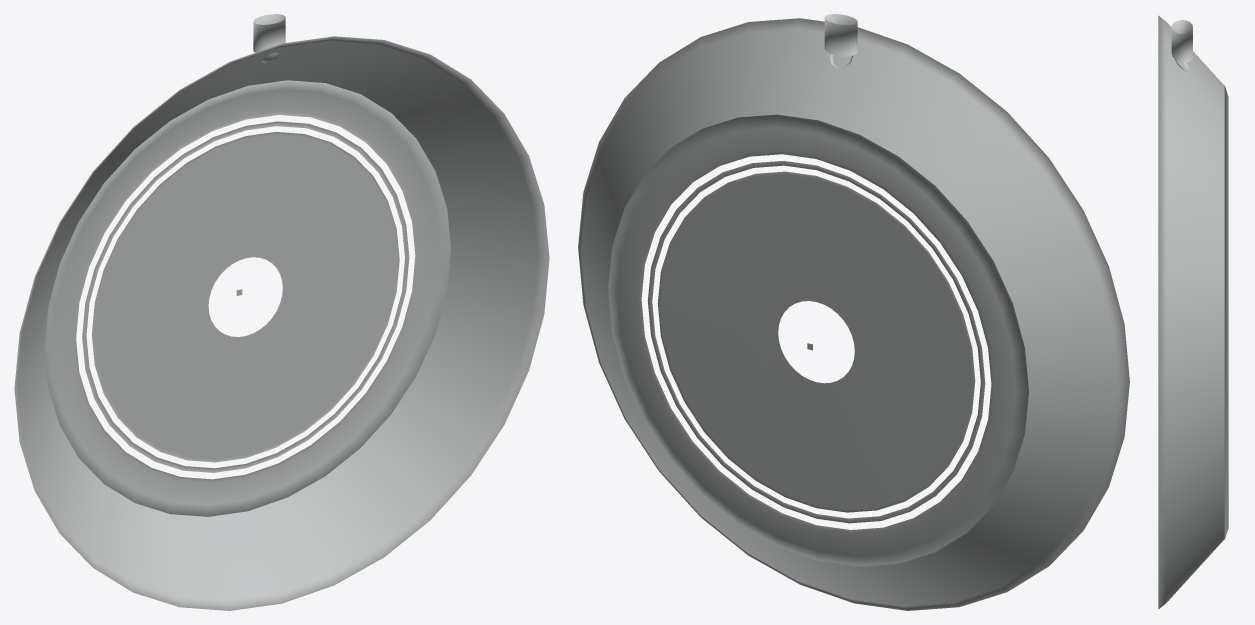
File: MeshPan_2_0_GeomSubset_0.obj
3 renders of one model, left to right at view 1: azimuth 30°, elevation 25°; view 2: azimuth 150°, elevation 25°; view 3: azimuth 270°, elevation 25°, orthographic. The views are drawn at different scales.
Visible parts, largest first — view 1: MeshPan_2_0_GeomSubset_0; view 2: MeshPan_2_0_GeomSubset_0; view 3: MeshPan_2_0_GeomSubset_0.
Boxes of the visible parts, <box> form: MeshPan_2_0_GeomSubset_0: <box>14,14,549,610</box>; MeshPan_2_0_GeomSubset_0: <box>578,14,1129,610</box>; MeshPan_2_0_GeomSubset_0: <box>1158,15,1228,609</box>.
Size of the model in its own units: 0.277 by 0.2844 by 0.0381.
